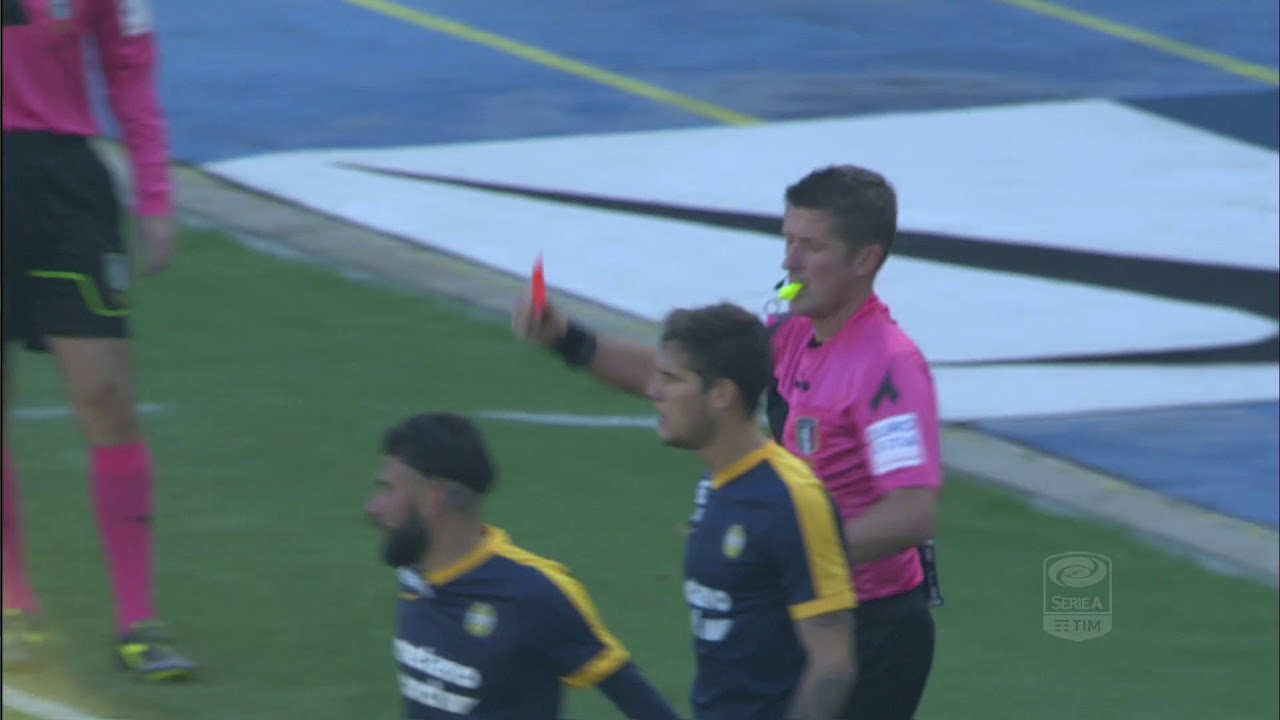red_card: (485, 243, 566, 345)
